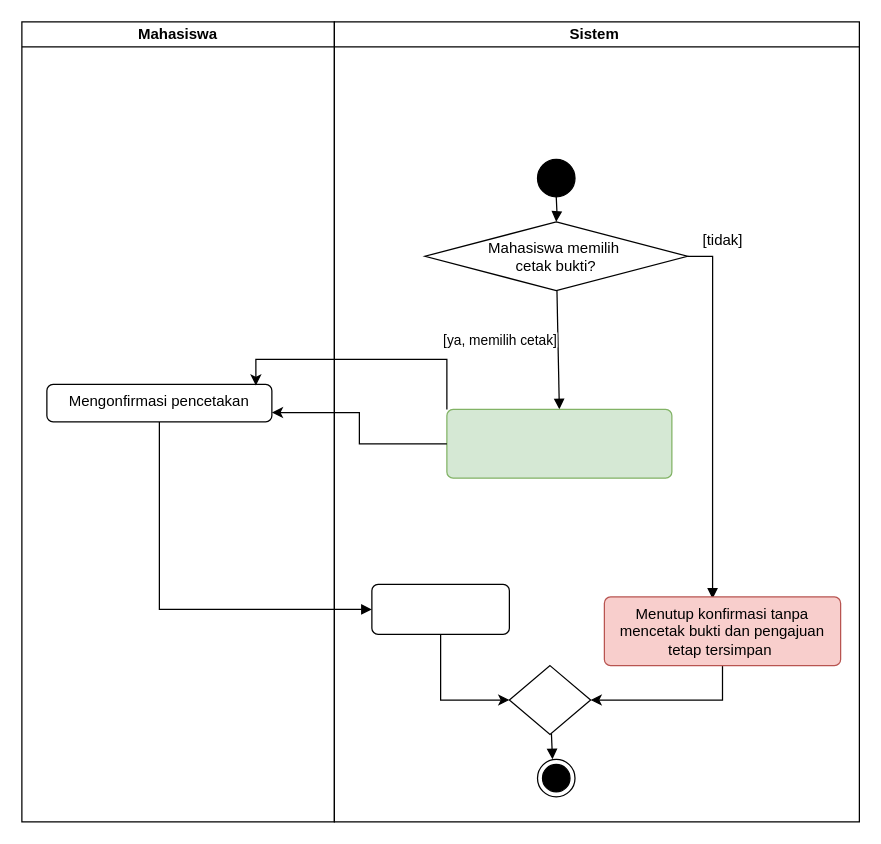
Image size: 881x844. Some labels were removed from this diagram. The centre of each missing label's shape, as x and y in pixels:
Menampilkan bukti pengajuan dengan nomer pengajuan dan status menunggu: the point at 559,443
Mencetak bukti pengajuan: the point at 440,608
